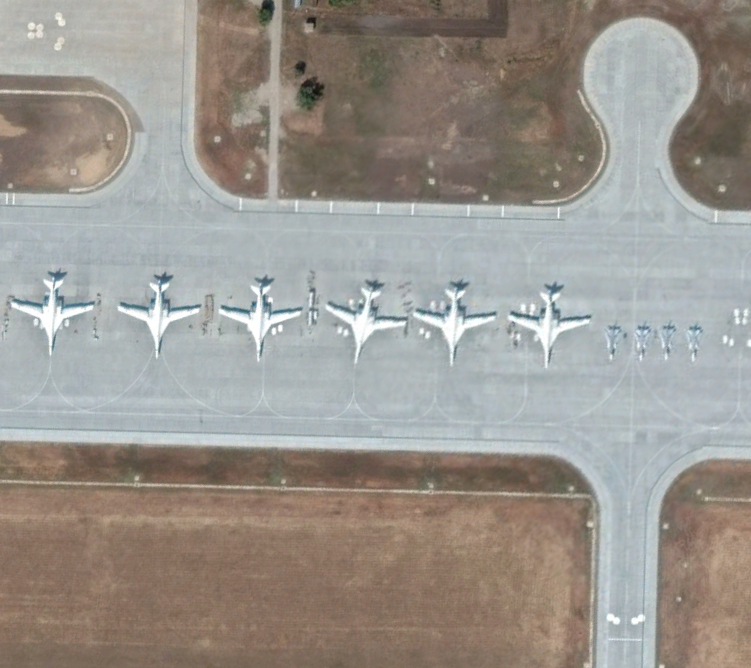A20: (654, 318, 682, 368), (683, 320, 708, 369), (602, 322, 621, 364), (634, 320, 650, 364)
A6: (7, 265, 95, 360), (115, 268, 203, 363), (218, 269, 306, 364), (322, 271, 410, 366), (414, 274, 502, 369), (505, 275, 593, 370)
